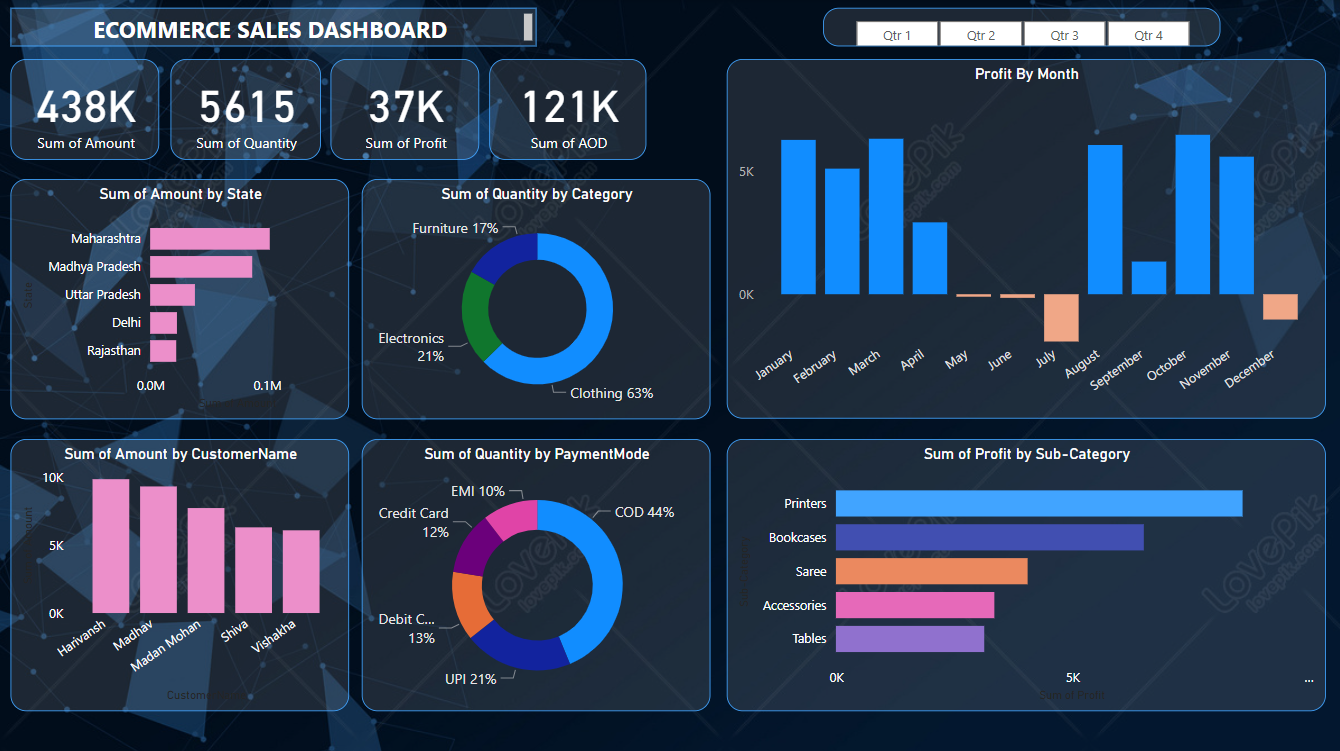

The page's visual inventory and layout, read from the dashboard file:
{"tool":"powerbi","page":{"name":"Page 1","canvas":[1280,720],"ordinal":0},"visuals":[{"type":"textbox","box":[11.9,8.3,501,36.9],"z":0},{"type":"columnChart","title":"Profit By Month","fields":{"Category":["Orders.Order Date.Variation.Date Hierarchy.Month"],"Y":["Details.Profit"]},"box":[693.8,57.1,570,342.7],"z":1000},{"type":"barChart","fields":{"Category":["Details.Sub-Category"],"Y":["Details.Profit"]},"box":[693.8,418.9,570,259.4],"z":2000},{"type":"donutChart","fields":{"Category":["Details.Category"],"Y":["Details.Quantity"]},"box":[346.3,171.4,332,228.5],"z":3000},{"type":"donutChart","fields":{"Y":["Details.Quantity"],"Category":["Details.PaymentMode"]},"box":[346.3,418.9,332,259.4],"z":4000},{"type":"card","fields":{"Values":["Details.Amount"]},"box":[11.9,57.1,141.6,96.4],"z":5000},{"type":"card","fields":{"Values":["Details.Quantity"]},"box":[164.2,57.1,142.8,96.4],"z":6000},{"type":"card","fields":{"Values":["Details.Profit"]},"box":[316.6,57.1,141.6,96.4],"z":7000},{"type":"card","fields":{"Values":["Details.AOD"]},"box":[467.7,57.1,150,96.4],"z":8000},{"type":"barChart","fields":{"Category":["Orders.State"],"Y":["Details.Amount"]},"box":[11.9,171.4,322.5,228.5],"z":9000},{"type":"columnChart","fields":{"Category":["Orders.CustomerName"],"Y":["Details.Amount"]},"box":[11.9,418.9,322.5,259.4],"z":10000},{"type":"slicer","fields":{"Values":["Orders.Order Date.Variation.Date Hierarchy.Quarter"]},"box":[785.5,8.3,378.4,36.9],"z":11000}]}

Visuals, with their boxes in screenshot pixels (x1, y1, x2, y2), scaled from the page's 1280x720 canvas onto the 1340x751 screenshot:
textbox: x1=12 y1=9 x2=537 y2=47
"Profit By Month" columnChart: x1=726 y1=60 x2=1323 y2=417
barChart - Details.Sub-Category x Details.Profit: x1=726 y1=437 x2=1323 y2=708
donutChart - Details.Category x Details.Quantity: x1=363 y1=179 x2=710 y2=417
donutChart - Details.Quantity x Details.PaymentMode: x1=363 y1=437 x2=710 y2=708
card - Details.Amount: x1=12 y1=60 x2=161 y2=160
card - Details.Quantity: x1=172 y1=60 x2=321 y2=160
card - Details.Profit: x1=331 y1=60 x2=480 y2=160
card - Details.AOD: x1=490 y1=60 x2=647 y2=160
barChart - Orders.State x Details.Amount: x1=12 y1=179 x2=350 y2=417
columnChart - Orders.CustomerName x Details.Amount: x1=12 y1=437 x2=350 y2=708
slicer - Orders.Order Date.Variation.Date Hierarchy.Quarter: x1=822 y1=9 x2=1218 y2=47
